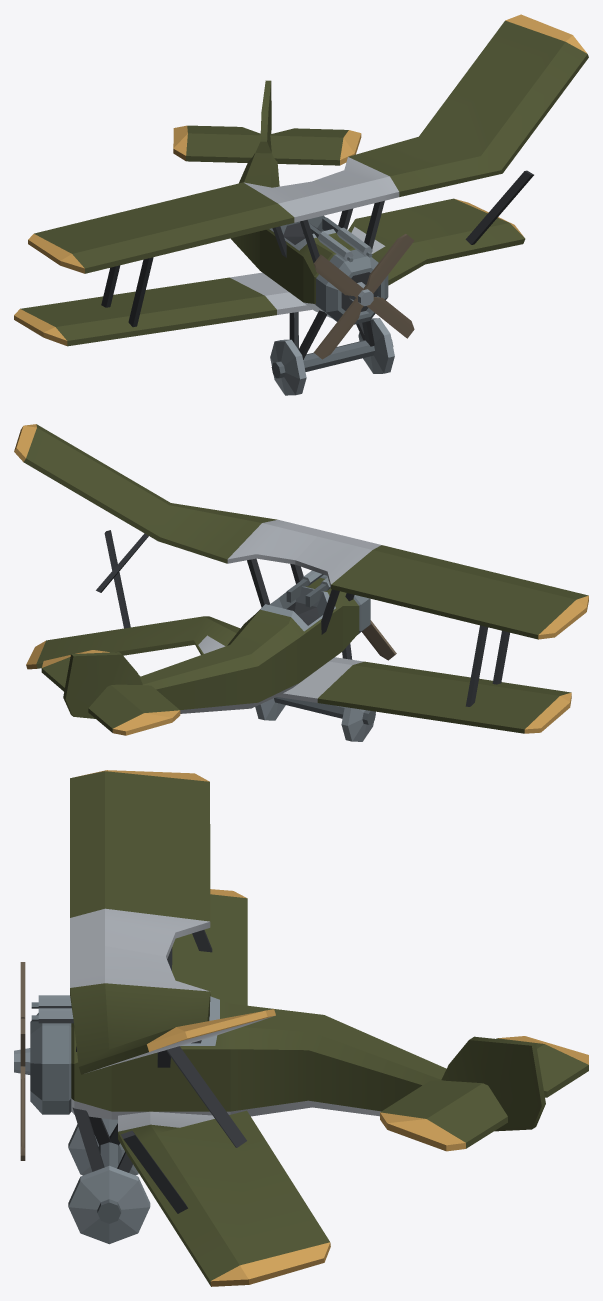
Rendered from SM_Veh_Biplane_Damaged_01.fbx.
3 views of the same model, one above another, from view 1: azimuth 30°, elevation 25°; view 2: azimuth 150°, elevation 25°; view 3: azimuth 270°, elevation 25° (orthographic). The views are drawn at different scales.
Parts seen in each view (by area): view 1: SM_Veh_Biplane_Damaged_01; view 2: SM_Veh_Biplane_Damaged_01; view 3: SM_Veh_Biplane_Damaged_01.
Part boxes in pixels (left/top/right/bottom): SM_Veh_Biplane_Damaged_01: left=14, top=14, right=588, bottom=395; SM_Veh_Biplane_Damaged_01: left=14, top=424, right=588, bottom=741; SM_Veh_Biplane_Damaged_01: left=14, top=770, right=588, bottom=1286.
Size of the model in its own units: 69.4 by 32.63 by 46.45.
